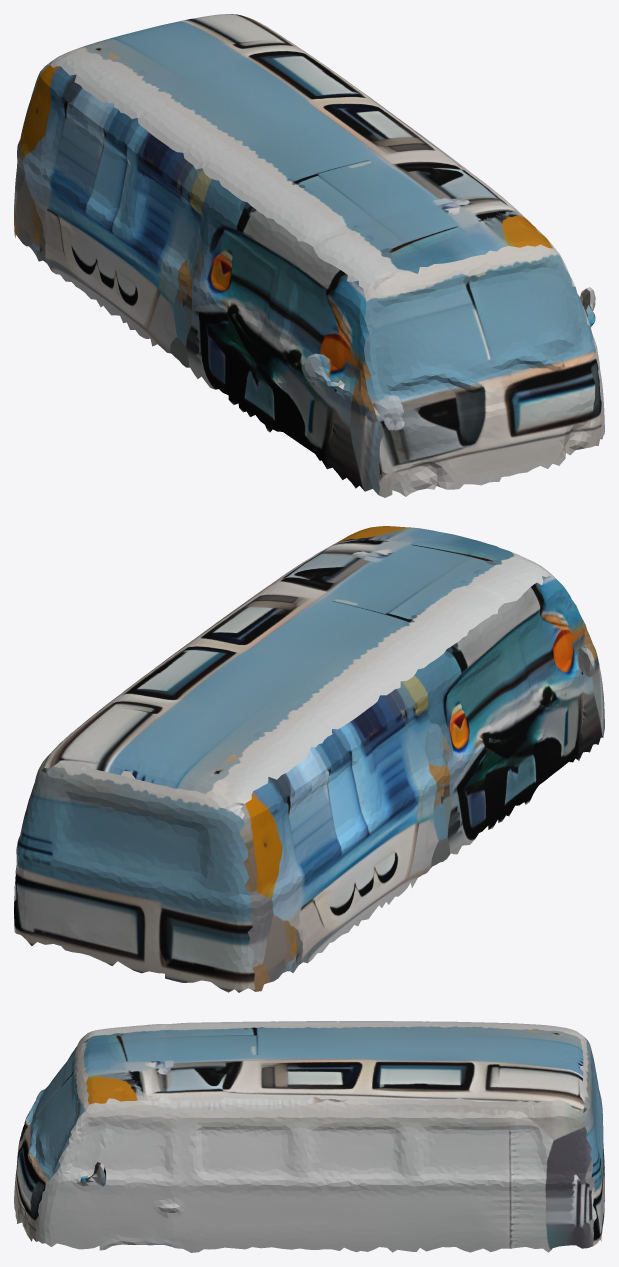
File: kombi-ia.glb
The picture shows the model from 3 angles, top to bottom: view 1: azimuth 30°, elevation 25°; view 2: azimuth 150°, elevation 25°; view 3: azimuth 270°, elevation 25°; orthographic projection. The views are drawn at different scales.
Visible parts, largest first — view 1: geometry_0; view 2: geometry_0; view 3: geometry_0.
Part boxes in pixels (x1,y1,x2,y2): geometry_0: [14, 14, 604, 497]; geometry_0: [14, 526, 604, 992]; geometry_0: [14, 1021, 604, 1252].
Size of the model in its own units: 0.8421 by 0.5624 by 1.91.
1 material, 1 textured.
